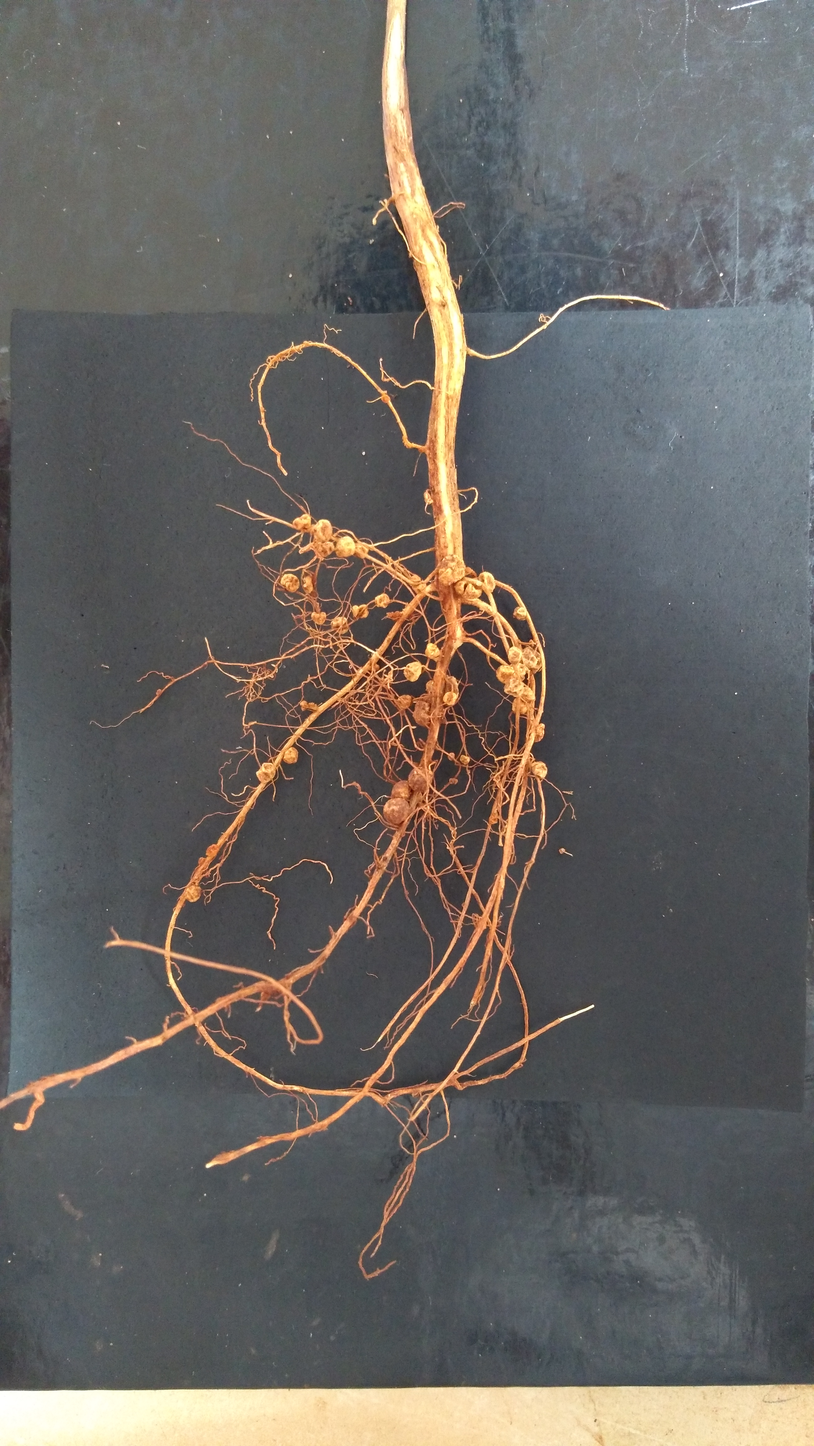nodule: (425, 674, 459, 707), (437, 553, 465, 586), (383, 797, 412, 825), (407, 766, 434, 793), (453, 576, 484, 599), (413, 693, 432, 727), (520, 646, 543, 674), (390, 780, 415, 802), (312, 519, 333, 543), (335, 536, 356, 558), (255, 762, 276, 784), (496, 664, 517, 684), (503, 677, 524, 697), (478, 571, 496, 594), (280, 573, 300, 593), (301, 569, 317, 594), (329, 616, 349, 636), (404, 661, 423, 682), (526, 723, 545, 743), (292, 513, 312, 531), (408, 574, 426, 594), (521, 681, 536, 703), (510, 662, 527, 681), (511, 696, 528, 715), (530, 760, 547, 779), (507, 645, 523, 665), (317, 541, 335, 558), (184, 884, 201, 902), (353, 542, 370, 559), (282, 746, 298, 764), (512, 606, 528, 622), (424, 643, 440, 659), (352, 604, 369, 619), (374, 593, 390, 608), (299, 700, 319, 712), (396, 694, 411, 709), (443, 691, 458, 706), (311, 611, 327, 625), (204, 844, 220, 858), (385, 610, 402, 622), (423, 488, 434, 505), (488, 809, 499, 825), (459, 754, 470, 765), (306, 523, 317, 533), (381, 394, 391, 404), (368, 663, 380, 671), (197, 856, 206, 865), (447, 752, 455, 761), (449, 776, 458, 784), (465, 566, 473, 574), (418, 446, 426, 453), (558, 847, 566, 854), (154, 689, 162, 696), (529, 639, 535, 647), (399, 708, 405, 716), (382, 855, 387, 861), (461, 902, 465, 907)
